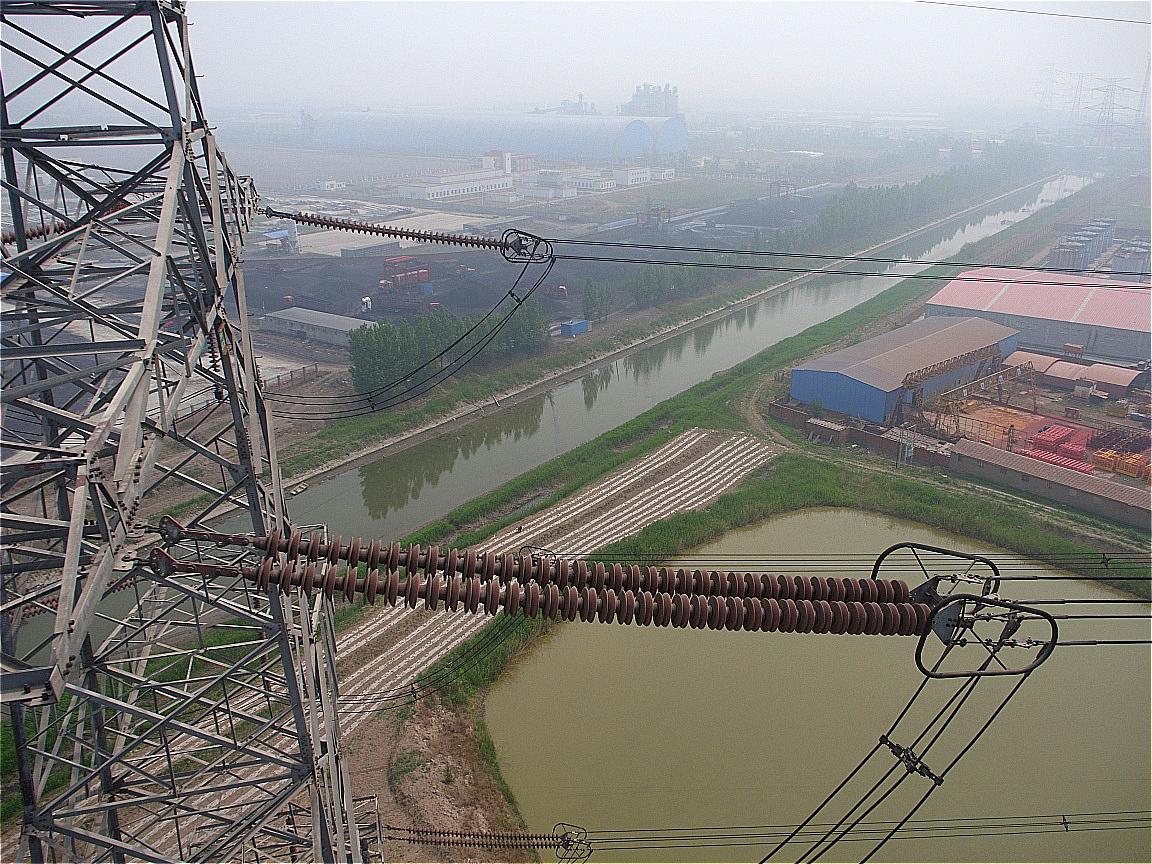insultor1: (293, 208, 513, 257)
insultor2: (254, 525, 934, 639)
